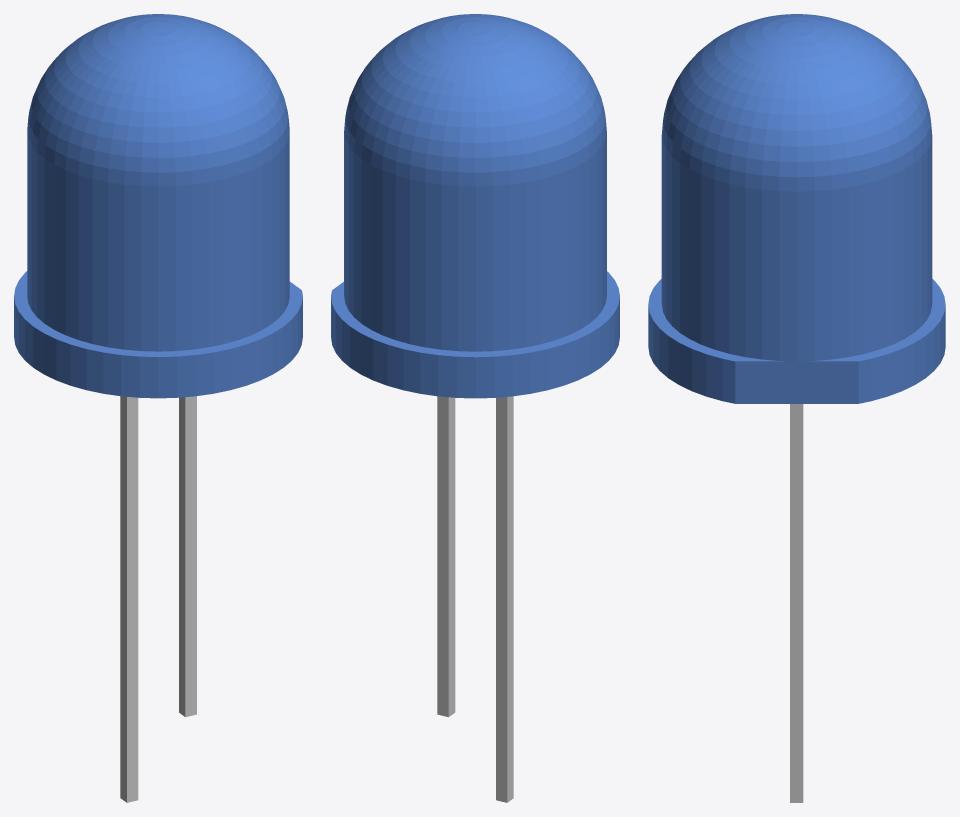
Rendered from blue_led_10mm.glb.
The picture shows the model from 3 angles, left to right: view 1: azimuth 30°, elevation 25°; view 2: azimuth 150°, elevation 25°; view 3: azimuth 270°, elevation 25°; orthographic projection. The views are drawn at different scales.
Visible parts, largest first — view 1: Mesh_Mesh_head_geo.001_lambert2SG.001; view 2: Mesh_Mesh_head_geo.001_lambert2SG.001; view 3: Mesh_Mesh_head_geo.001_lambert2SG.001.
Boxes of the visible parts, x1,y1,x2,y2 form: Mesh_Mesh_head_geo.001_lambert2SG.001: (14, 14, 302, 802); Mesh_Mesh_head_geo.001_lambert2SG.001: (331, 14, 619, 802); Mesh_Mesh_head_geo.001_lambert2SG.001: (648, 14, 945, 802).
Size of the model in its own units: 0.0105 by 0.0321 by 0.011.
